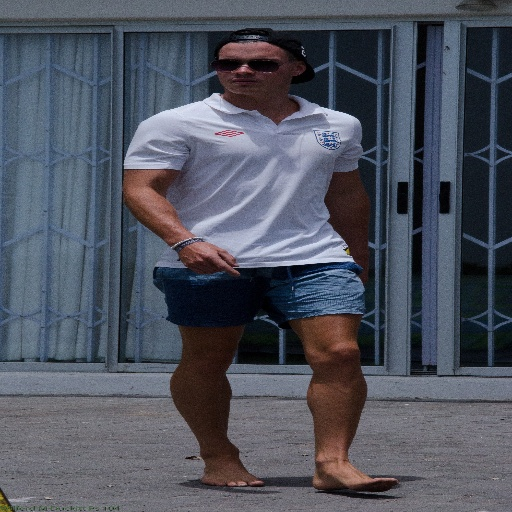hand: (169, 232, 239, 273)
